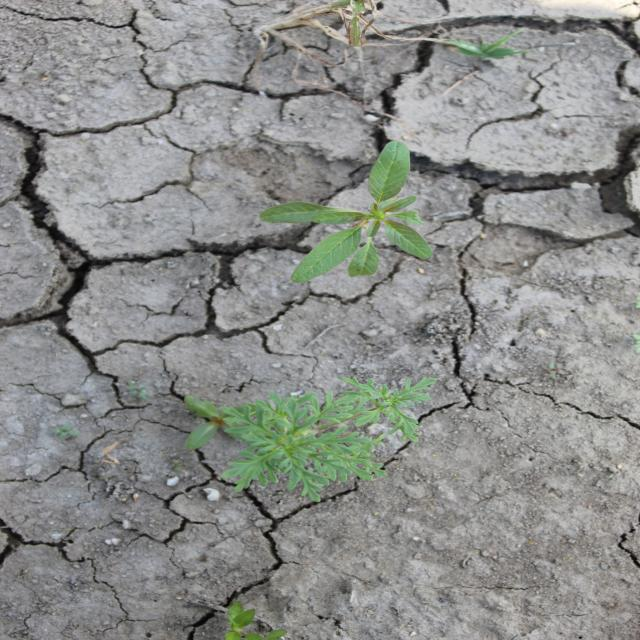Ragweed: (216, 374, 439, 504)
Waterhemp: (257, 139, 436, 284)
